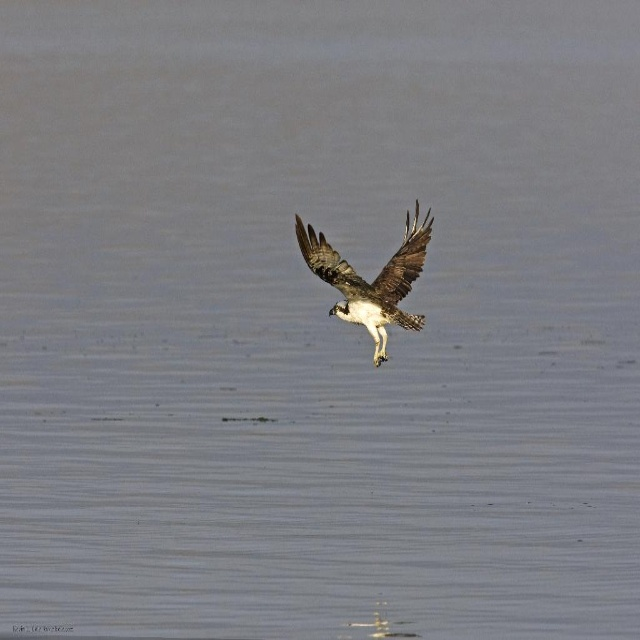Eagle: (296, 195, 438, 370)
